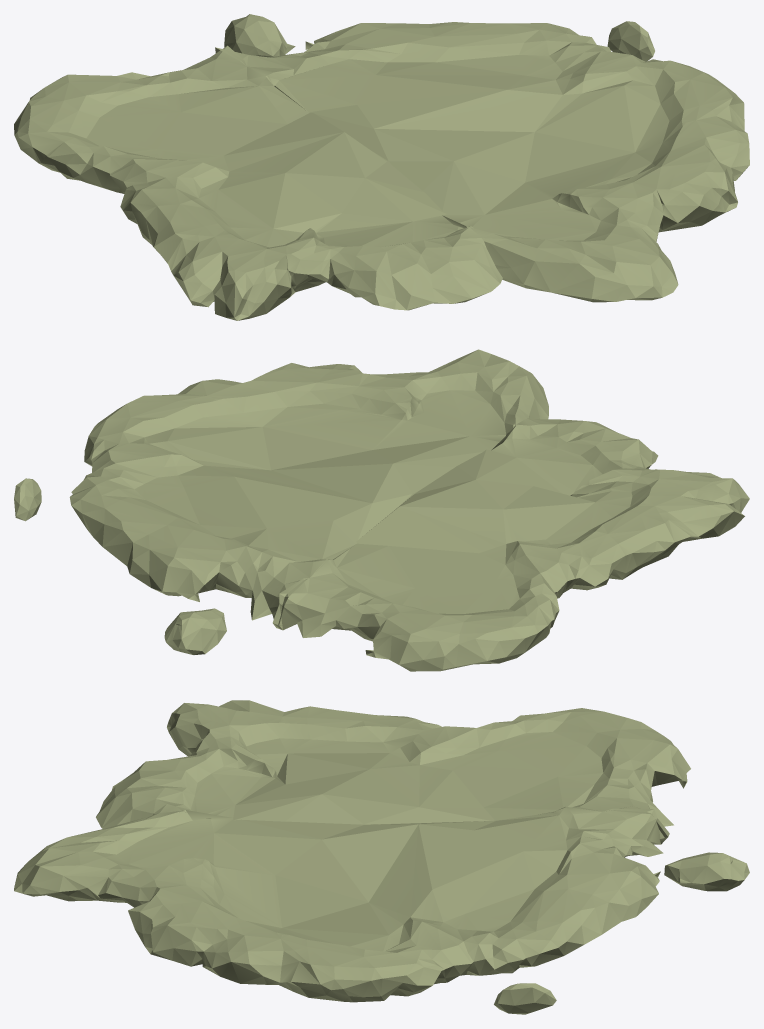
File: COLLA.fbx
3 renders of one model, top to bottom at view 1: azimuth 30°, elevation 25°; view 2: azimuth 150°, elevation 25°; view 3: azimuth 270°, elevation 25°, orthographic. The views are drawn at different scales.
Parts seen in each view (by area): view 1: Mesh_0.002; view 2: Mesh_0.002; view 3: Mesh_0.002.
Part boxes in pixels (left/top/right/bottom): Mesh_0.002: left=14, top=14, right=749, bottom=320; Mesh_0.002: left=14, top=349, right=749, bottom=671; Mesh_0.002: left=14, top=700, right=749, bottom=1014.
Bounding box in the file's own units: 57.12 × 4.78 × 62.45.
